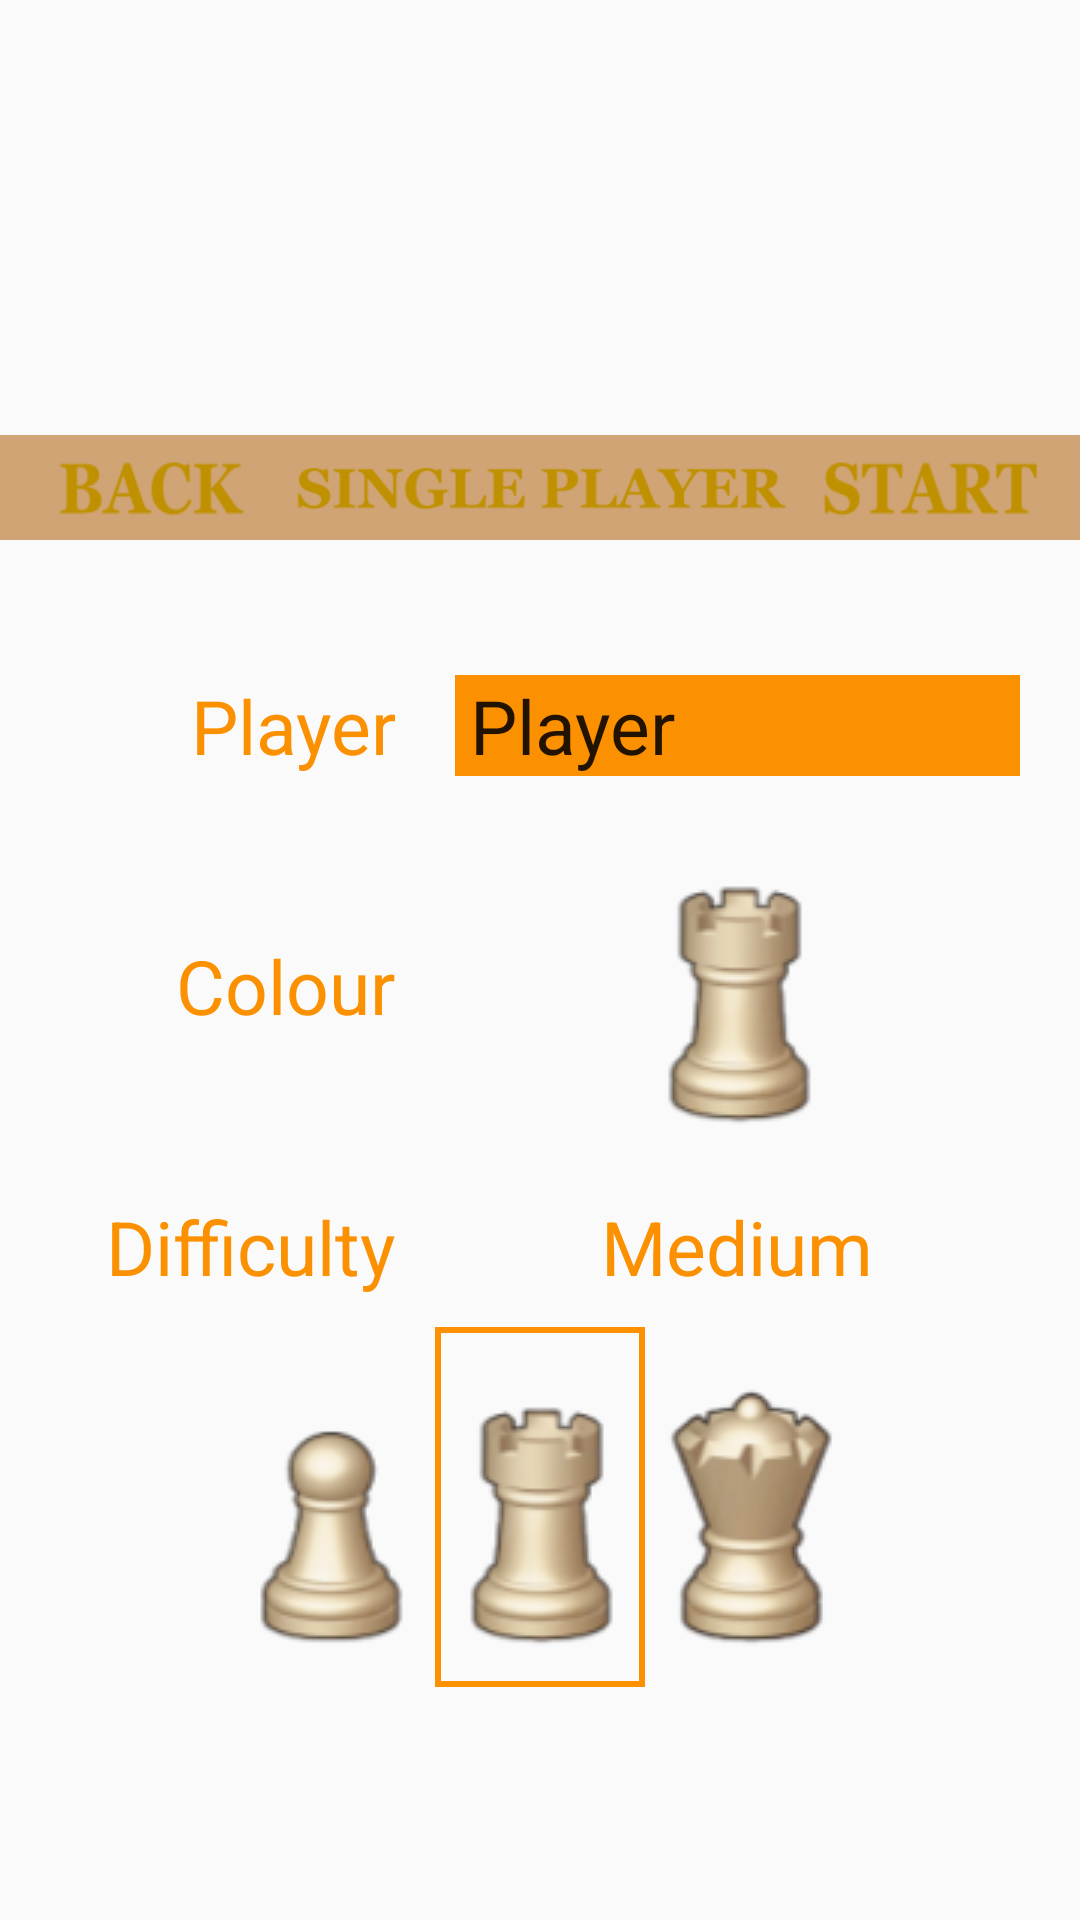

Icon bounding boxes for this 1080x1920 phone screenshot, format (x1, y1, x2, y2):
pawn: (260, 1431, 402, 1642)
queen: (671, 1391, 832, 1643)
rook: (668, 886, 811, 1122), (435, 1327, 645, 1687)
